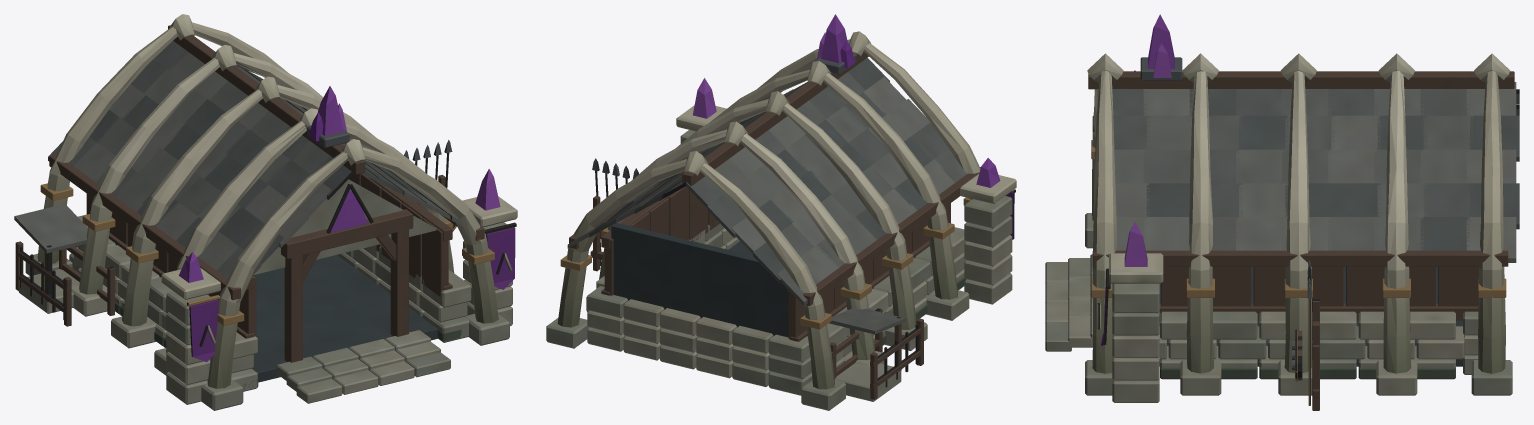
The model's file is astra_bone_barracks_r1.gltf.
3 views of the same model, side by side, from view 1: azimuth 30°, elevation 25°; view 2: azimuth 150°, elevation 25°; view 3: azimuth 270°, elevation 25° (orthographic). The views are drawn at different scales.
Parts seen in each view (by area): view 1: AR_BoneBarracksR1_Baked; view 2: AR_BoneBarracksR1_Baked; view 3: AR_BoneBarracksR1_Baked.
Boxes of the visible parts, x1,y1,x2,y2 form: AR_BoneBarracksR1_Baked: [14, 14, 517, 410]; AR_BoneBarracksR1_Baked: [546, 14, 1016, 410]; AR_BoneBarracksR1_Baked: [1045, 14, 1519, 410].
Bounding box in the file's own units: 8.29 × 5.75 × 8.21.
1 material, 1 textured.
